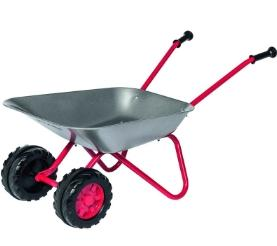BROUETTE: (0, 26, 277, 246)
